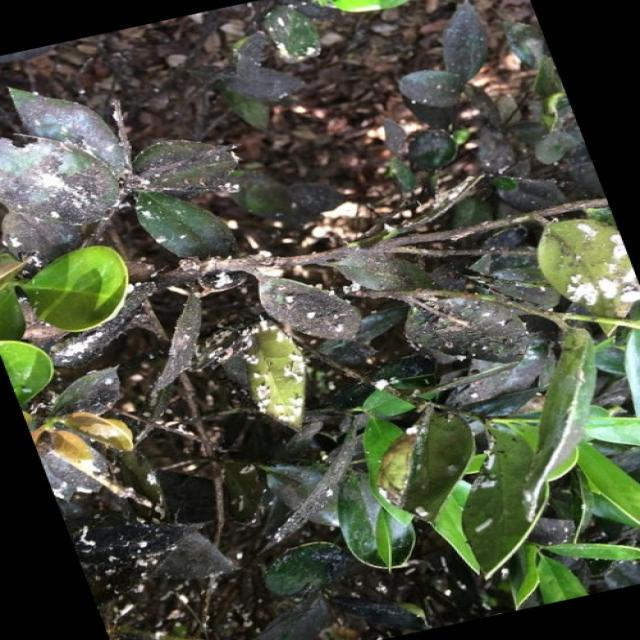Sooty Mold: (1, 1, 636, 637)
